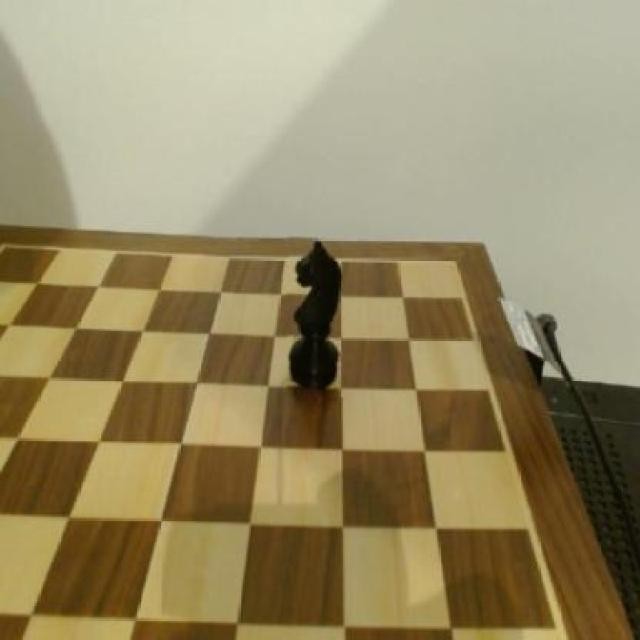black-king: (288, 237, 348, 398)
